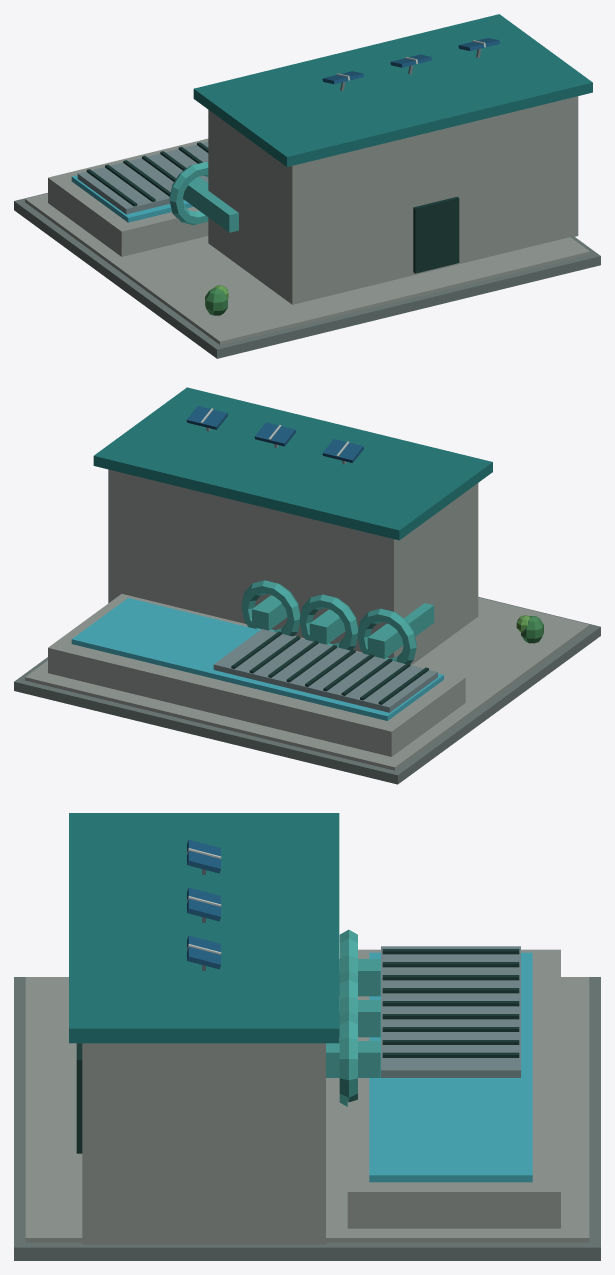
The model's file is drain_lv3.glb.
3 renders of one model, top to bottom at view 1: azimuth 30°, elevation 25°; view 2: azimuth 150°, elevation 25°; view 3: azimuth 270°, elevation 25°, orthographic. The views are drawn at different scales.
Visible parts, largest first — view 1: rough, metallic, glossy; view 2: rough, glossy, metallic; view 3: rough, glossy, metallic.
Part boxes in pixels (<box>): rough: <box>14,14,600,358</box>; metallic: <box>77,38,499,214</box>; glossy: <box>71,175,193,222</box>; rough: <box>14,387,600,784</box>; glossy: <box>71,598,443,720</box>; metallic: <box>186,406,437,712</box>; rough: <box>14,813,600,1260</box>; glossy: <box>369,952,532,1182</box>; metallic: <box>187,839,520,1077</box>.
Bounding box in the file's own units: 9.88 × 4.58 × 8.8.
